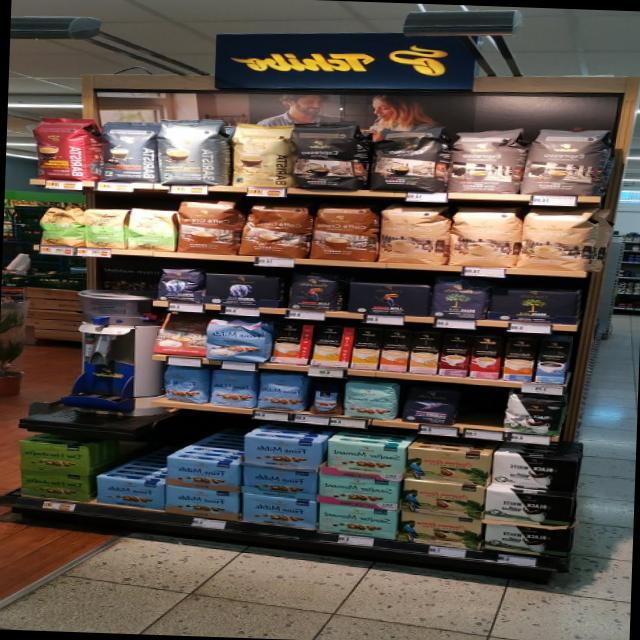AB Bohne: (152, 266, 205, 305)
AB Gemahlen: (200, 272, 286, 308)
Athiopien Bohne: (32, 208, 84, 246)
Athiopien Gemahlen: (126, 209, 176, 252), (81, 208, 130, 249)
BM Bohne: (424, 276, 490, 321)
BM Gemahlen: (485, 285, 582, 324)
BW Bohne: (501, 391, 569, 437)
BW Gemahlen: (483, 488, 572, 528), (489, 453, 579, 492), (482, 522, 575, 557)
Barista CB: (229, 123, 293, 188)
Barista CC: (153, 117, 229, 185)
Barista Espresso: (98, 120, 160, 183)
Barista Kolumbien: (26, 115, 101, 182)
C Fino Bohne: (398, 384, 457, 426)
CC Mild: (516, 204, 597, 271), (445, 203, 521, 270), (375, 200, 448, 266)
CC Vollmundig: (153, 312, 206, 356)
CC Vollmundig 36 Pads: (305, 200, 379, 263), (235, 201, 311, 260), (175, 196, 241, 255)
Colombia BB Gemahlen: (399, 478, 484, 519), (403, 447, 489, 487), (396, 511, 481, 551)
Empty Shelf: (165, 425, 241, 464), (97, 447, 164, 481), (454, 389, 506, 430)
Espresso Aromatisch: (518, 126, 614, 197), (445, 127, 528, 194)
Espresso Kraftig: (288, 119, 368, 190), (366, 124, 447, 193)
FM 36 Pads: (205, 317, 270, 363)
FM Bohne: (254, 373, 307, 412), (208, 369, 258, 408), (159, 365, 209, 404)
FM Gemahlen: (240, 433, 320, 472), (239, 464, 317, 501), (239, 493, 314, 530), (162, 484, 238, 520), (165, 456, 239, 492), (94, 475, 166, 511)
FM Instant: (305, 384, 344, 416)
Herzhatfe Mundig: (18, 440, 90, 476), (18, 469, 91, 502)
LG Bohne: (283, 270, 346, 312)
LG Gemahlen: (345, 282, 431, 317)
SM Bohne: (342, 379, 400, 422)
SM Gemahlen: (323, 439, 402, 482), (316, 473, 400, 511), (317, 502, 397, 540)
Simo CCMild: (311, 325, 354, 368)
Simo CCMild bigpack: (349, 327, 382, 370)
Simo CCVollmundig: (271, 322, 312, 364)
Simo CCVollmundig bigpack: (378, 330, 410, 373), (503, 338, 538, 376)
Simo Decaff: (408, 330, 441, 374)
Simo Es Brazil: (469, 335, 504, 379)
Simo Es Caramel: (438, 333, 470, 377)
Simo Es Vanilla: (534, 339, 572, 384)
